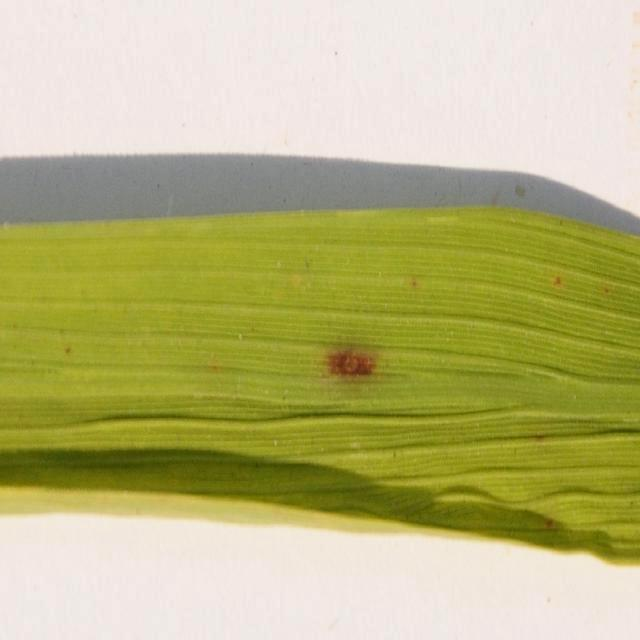Brownspot: (327, 349, 375, 377), (290, 273, 303, 288), (208, 359, 221, 373), (552, 275, 564, 288), (514, 184, 525, 197), (409, 276, 420, 289), (544, 518, 556, 529), (534, 433, 546, 441), (602, 285, 610, 294), (64, 346, 71, 353)
